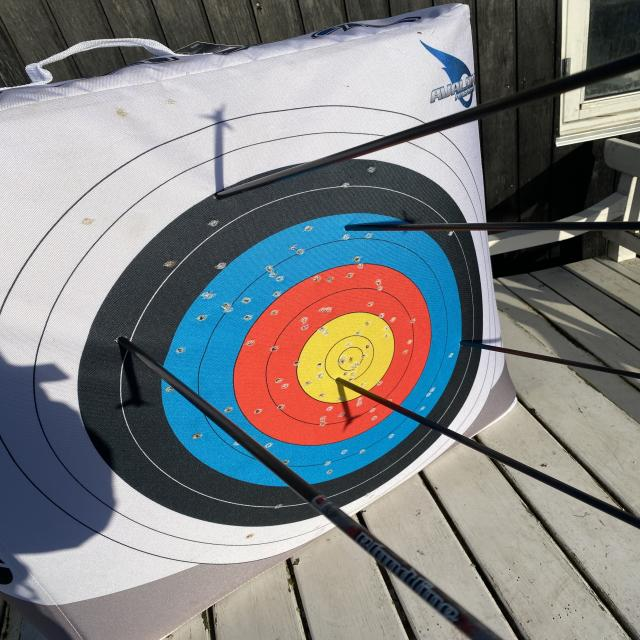Arrow_Black: (111, 326, 144, 357), (204, 181, 231, 209), (455, 331, 475, 356)
Arrow_Blue: (334, 211, 364, 245)
Arrow_Yellow: (331, 370, 355, 395)
